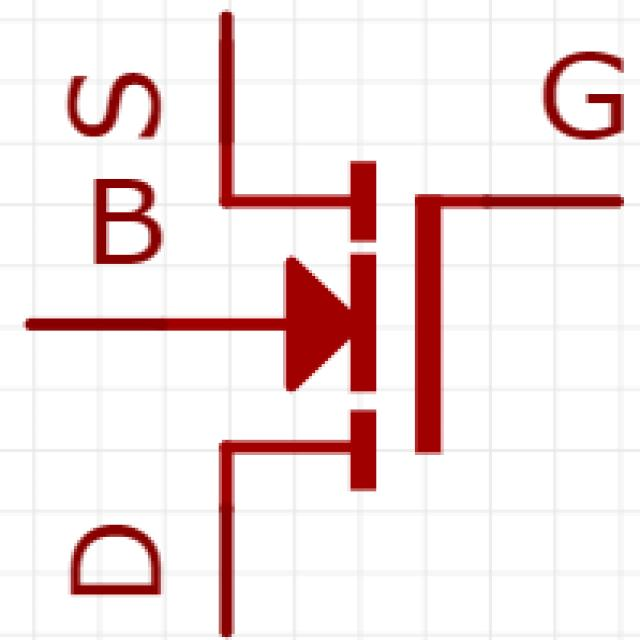nmos: (47, 20, 633, 630)
